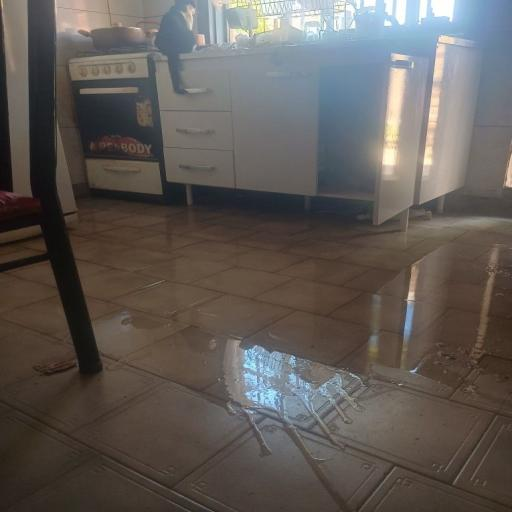bus: (0, 0, 102, 373)
wet_floor: (0, 200, 511, 511)
